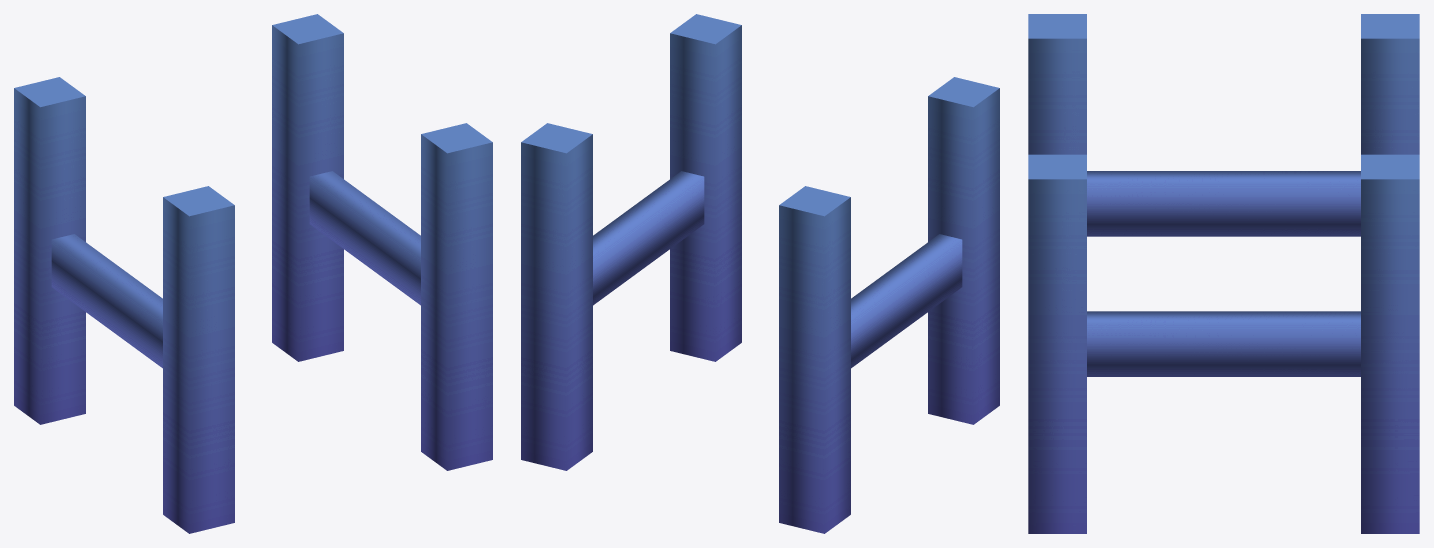
The model's file is supports.glb.
3 renders of one model, left to right at view 1: azimuth 30°, elevation 25°; view 2: azimuth 150°, elevation 25°; view 3: azimuth 270°, elevation 25°, orthographic. The views are drawn at different scales.
Parts seen in each view (by area): view 1: supports; view 2: supports; view 3: supports.
Boxes of the visible parts, left/top/right/bottom form: supports: left=14, top=14, right=492, bottom=533; supports: left=521, top=14, right=999, bottom=533; supports: left=1028, top=14, right=1419, bottom=533.
Size of the model in its own units: 1 by 1 by 1.
1 material, 1 textured.
